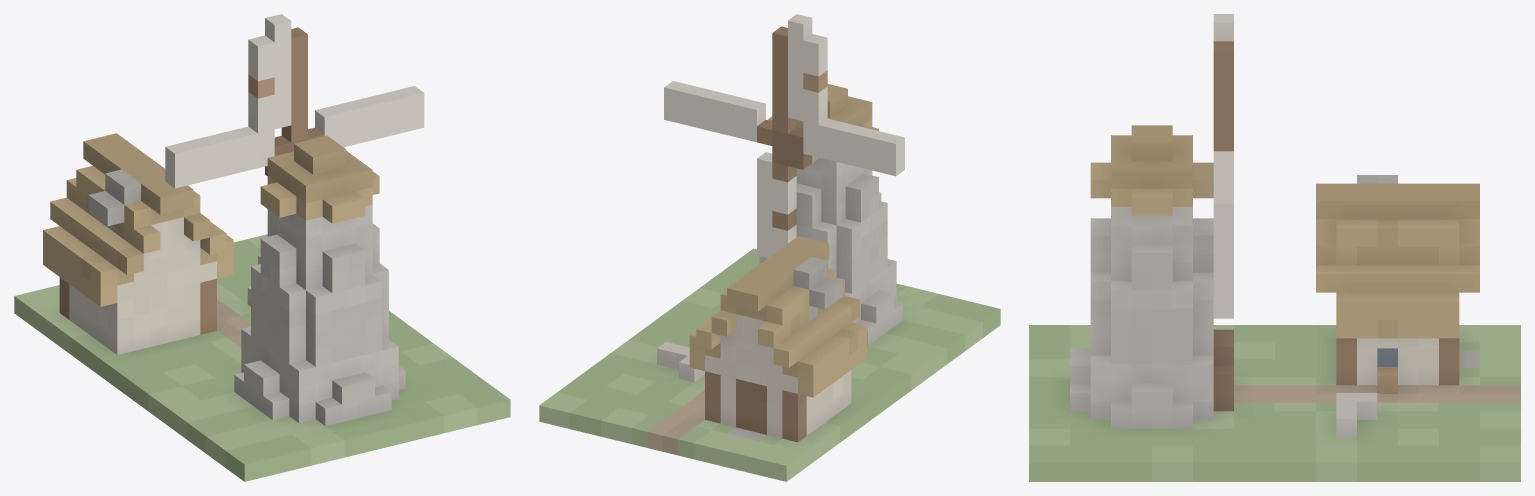
File: mill.lite.glb
The picture shows the model from 3 angles, left to right: view 1: azimuth 30°, elevation 25°; view 2: azimuth 150°, elevation 25°; view 3: azimuth 270°, elevation 25°; orthographic projection. The views are drawn at different scales.
Parts seen in each view (by area): view 1: mill; view 2: mill; view 3: mill.
Boxes of the visible parts, x1,y1,x2,y2 form: mill: (14,14,510,481); mill: (539,14,1000,481); mill: (1029,14,1520,481).
Bounding box in the file's own units: 4 × 5.25 × 6.
